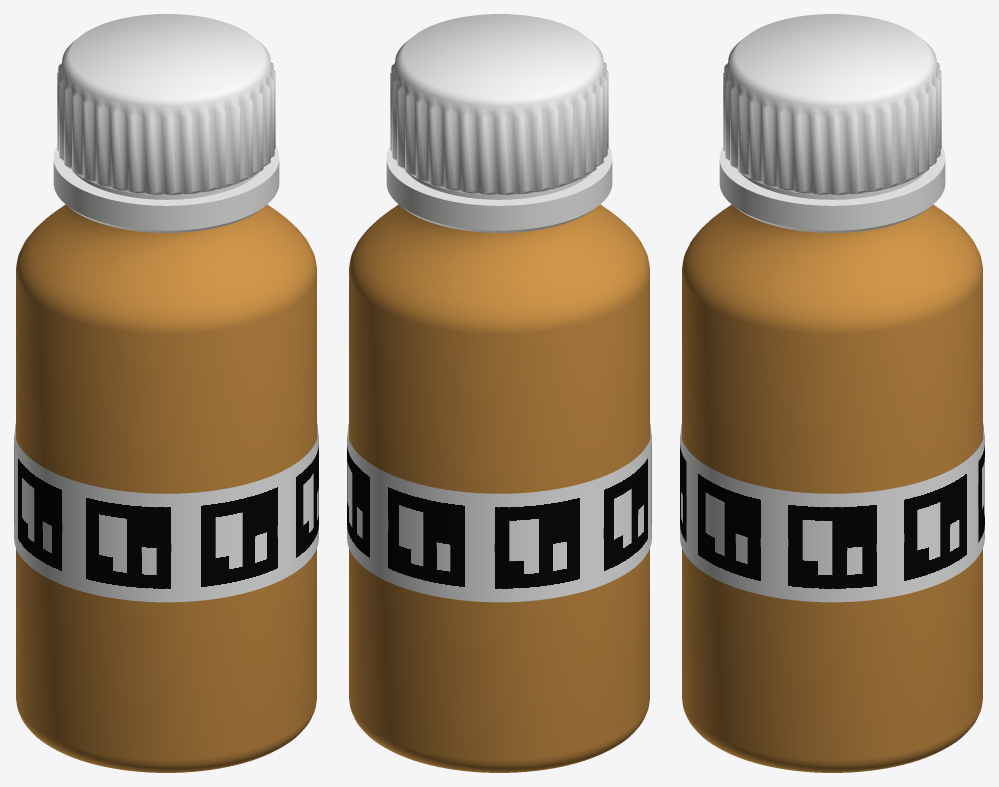
The model's file is SMP-0023_2008601317105.glb.
3 renders of one model, left to right at view 1: azimuth 30°, elevation 25°; view 2: azimuth 150°, elevation 25°; view 3: azimuth 270°, elevation 25°, orthographic.
Visible parts, largest first — view 1: Bottle_030ml, Cap_030ml_PP20, Label_SMP-0023; view 2: Bottle_030ml, Cap_030ml_PP20, Label_SMP-0023; view 3: Bottle_030ml, Cap_030ml_PP20, Label_SMP-0023.
Boxes of the visible parts, left/top/right/bottom form: Bottle_030ml: left=16, top=204, right=316, bottom=772; Cap_030ml_PP20: left=53, top=14, right=279, bottom=232; Label_SMP-0023: left=14, top=423, right=318, bottom=602; Bottle_030ml: left=349, top=204, right=649, bottom=772; Cap_030ml_PP20: left=386, top=14, right=612, bottom=232; Label_SMP-0023: left=347, top=423, right=651, bottom=602; Bottle_030ml: left=682, top=204, right=982, bottom=772; Cap_030ml_PP20: left=719, top=14, right=945, bottom=232; Label_SMP-0023: left=680, top=423, right=984, bottom=602.
Bounding box in the file's own units: 0.0321 × 0.077 × 0.0321.
4 materials, 1 textured.
